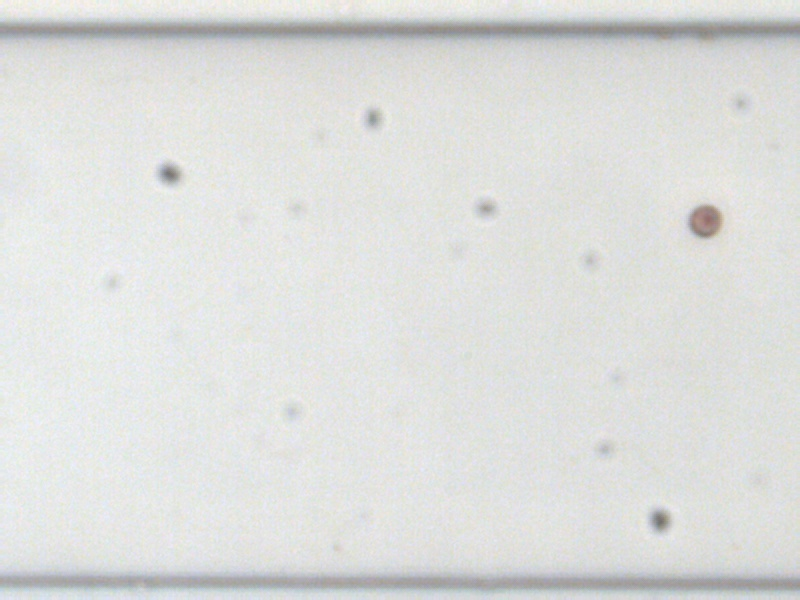Porphyridium: (685, 201, 723, 238)
